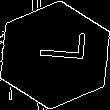L_W: (26, 37, 84, 73)
